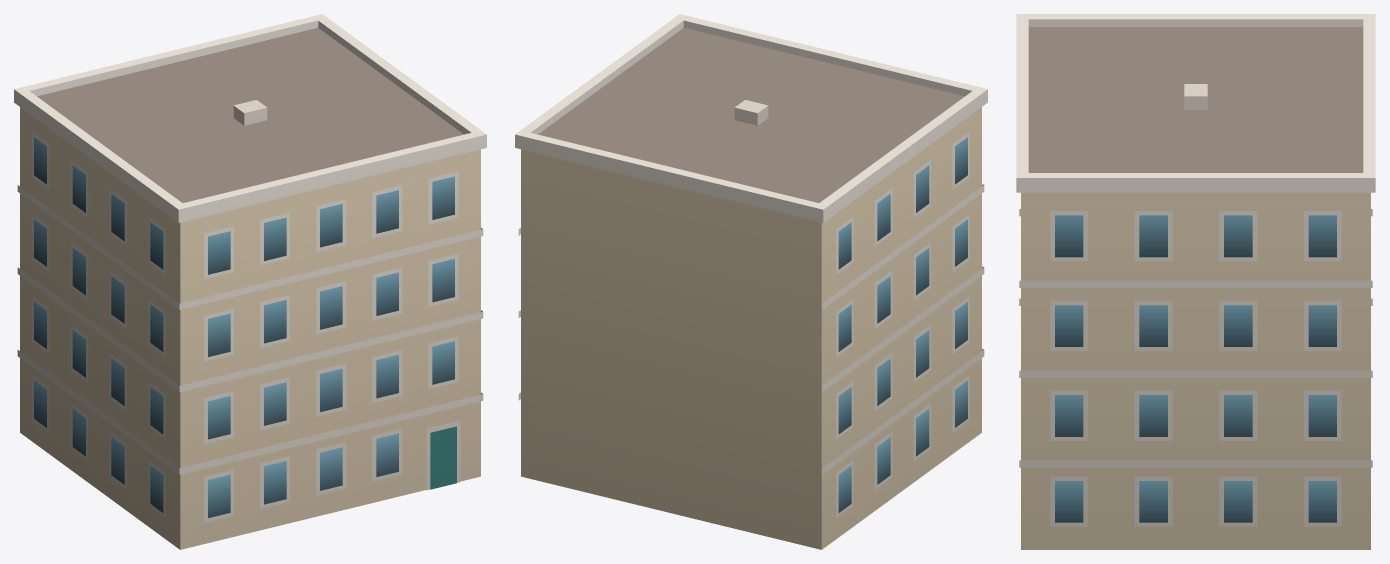
Rendered from vee_rightb0_far.glb.
The picture shows the model from 3 angles, left to right: view 1: azimuth 30°, elevation 25°; view 2: azimuth 150°, elevation 25°; view 3: azimuth 270°, elevation 25°; orthographic projection. The views are drawn at different scales.
Visible parts, largest first — view 1: vee_rightb0_far; view 2: vee_rightb0_far; view 3: vee_rightb0_far.
Boxes of the visible parts, box(x1,y1,x2,y2) form: vee_rightb0_far: box(14, 14, 486, 549); vee_rightb0_far: box(515, 14, 987, 549); vee_rightb0_far: box(1016, 14, 1375, 549).
Size of the model in its own units: 13.32 by 14.37 by 12.32.
Materials: 1 (1 with a texture image).
